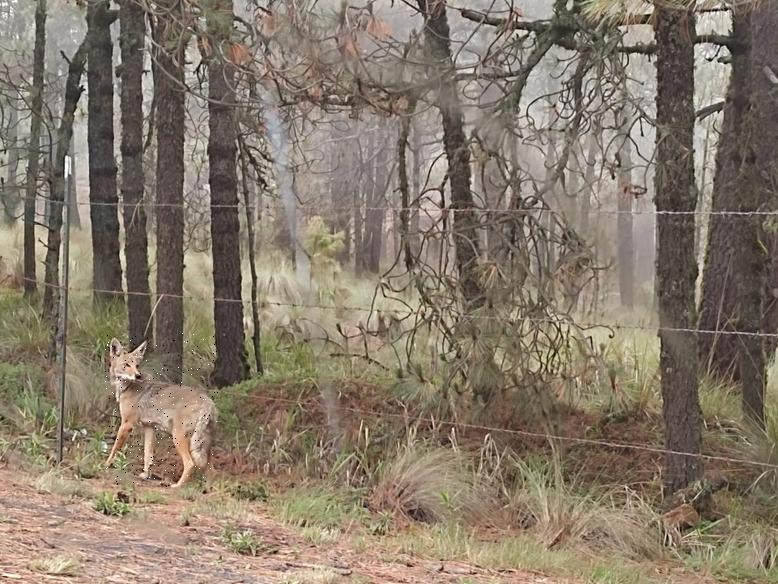Coyote: (105, 332, 218, 491)
